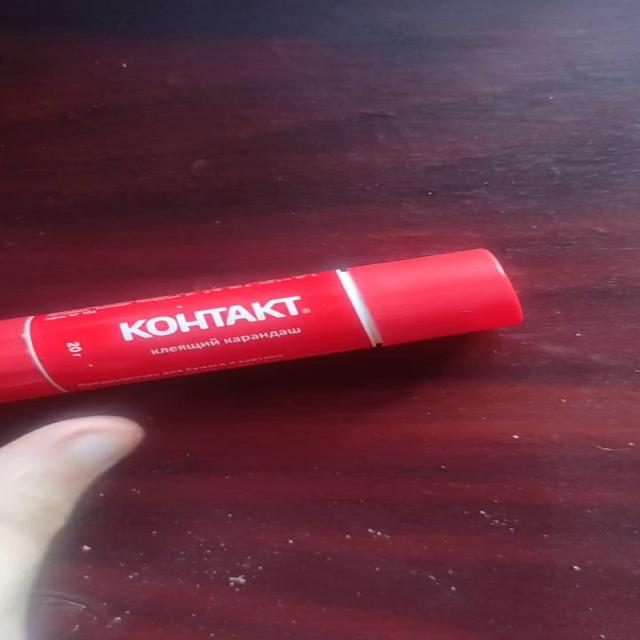glue: (1, 247, 524, 405)
